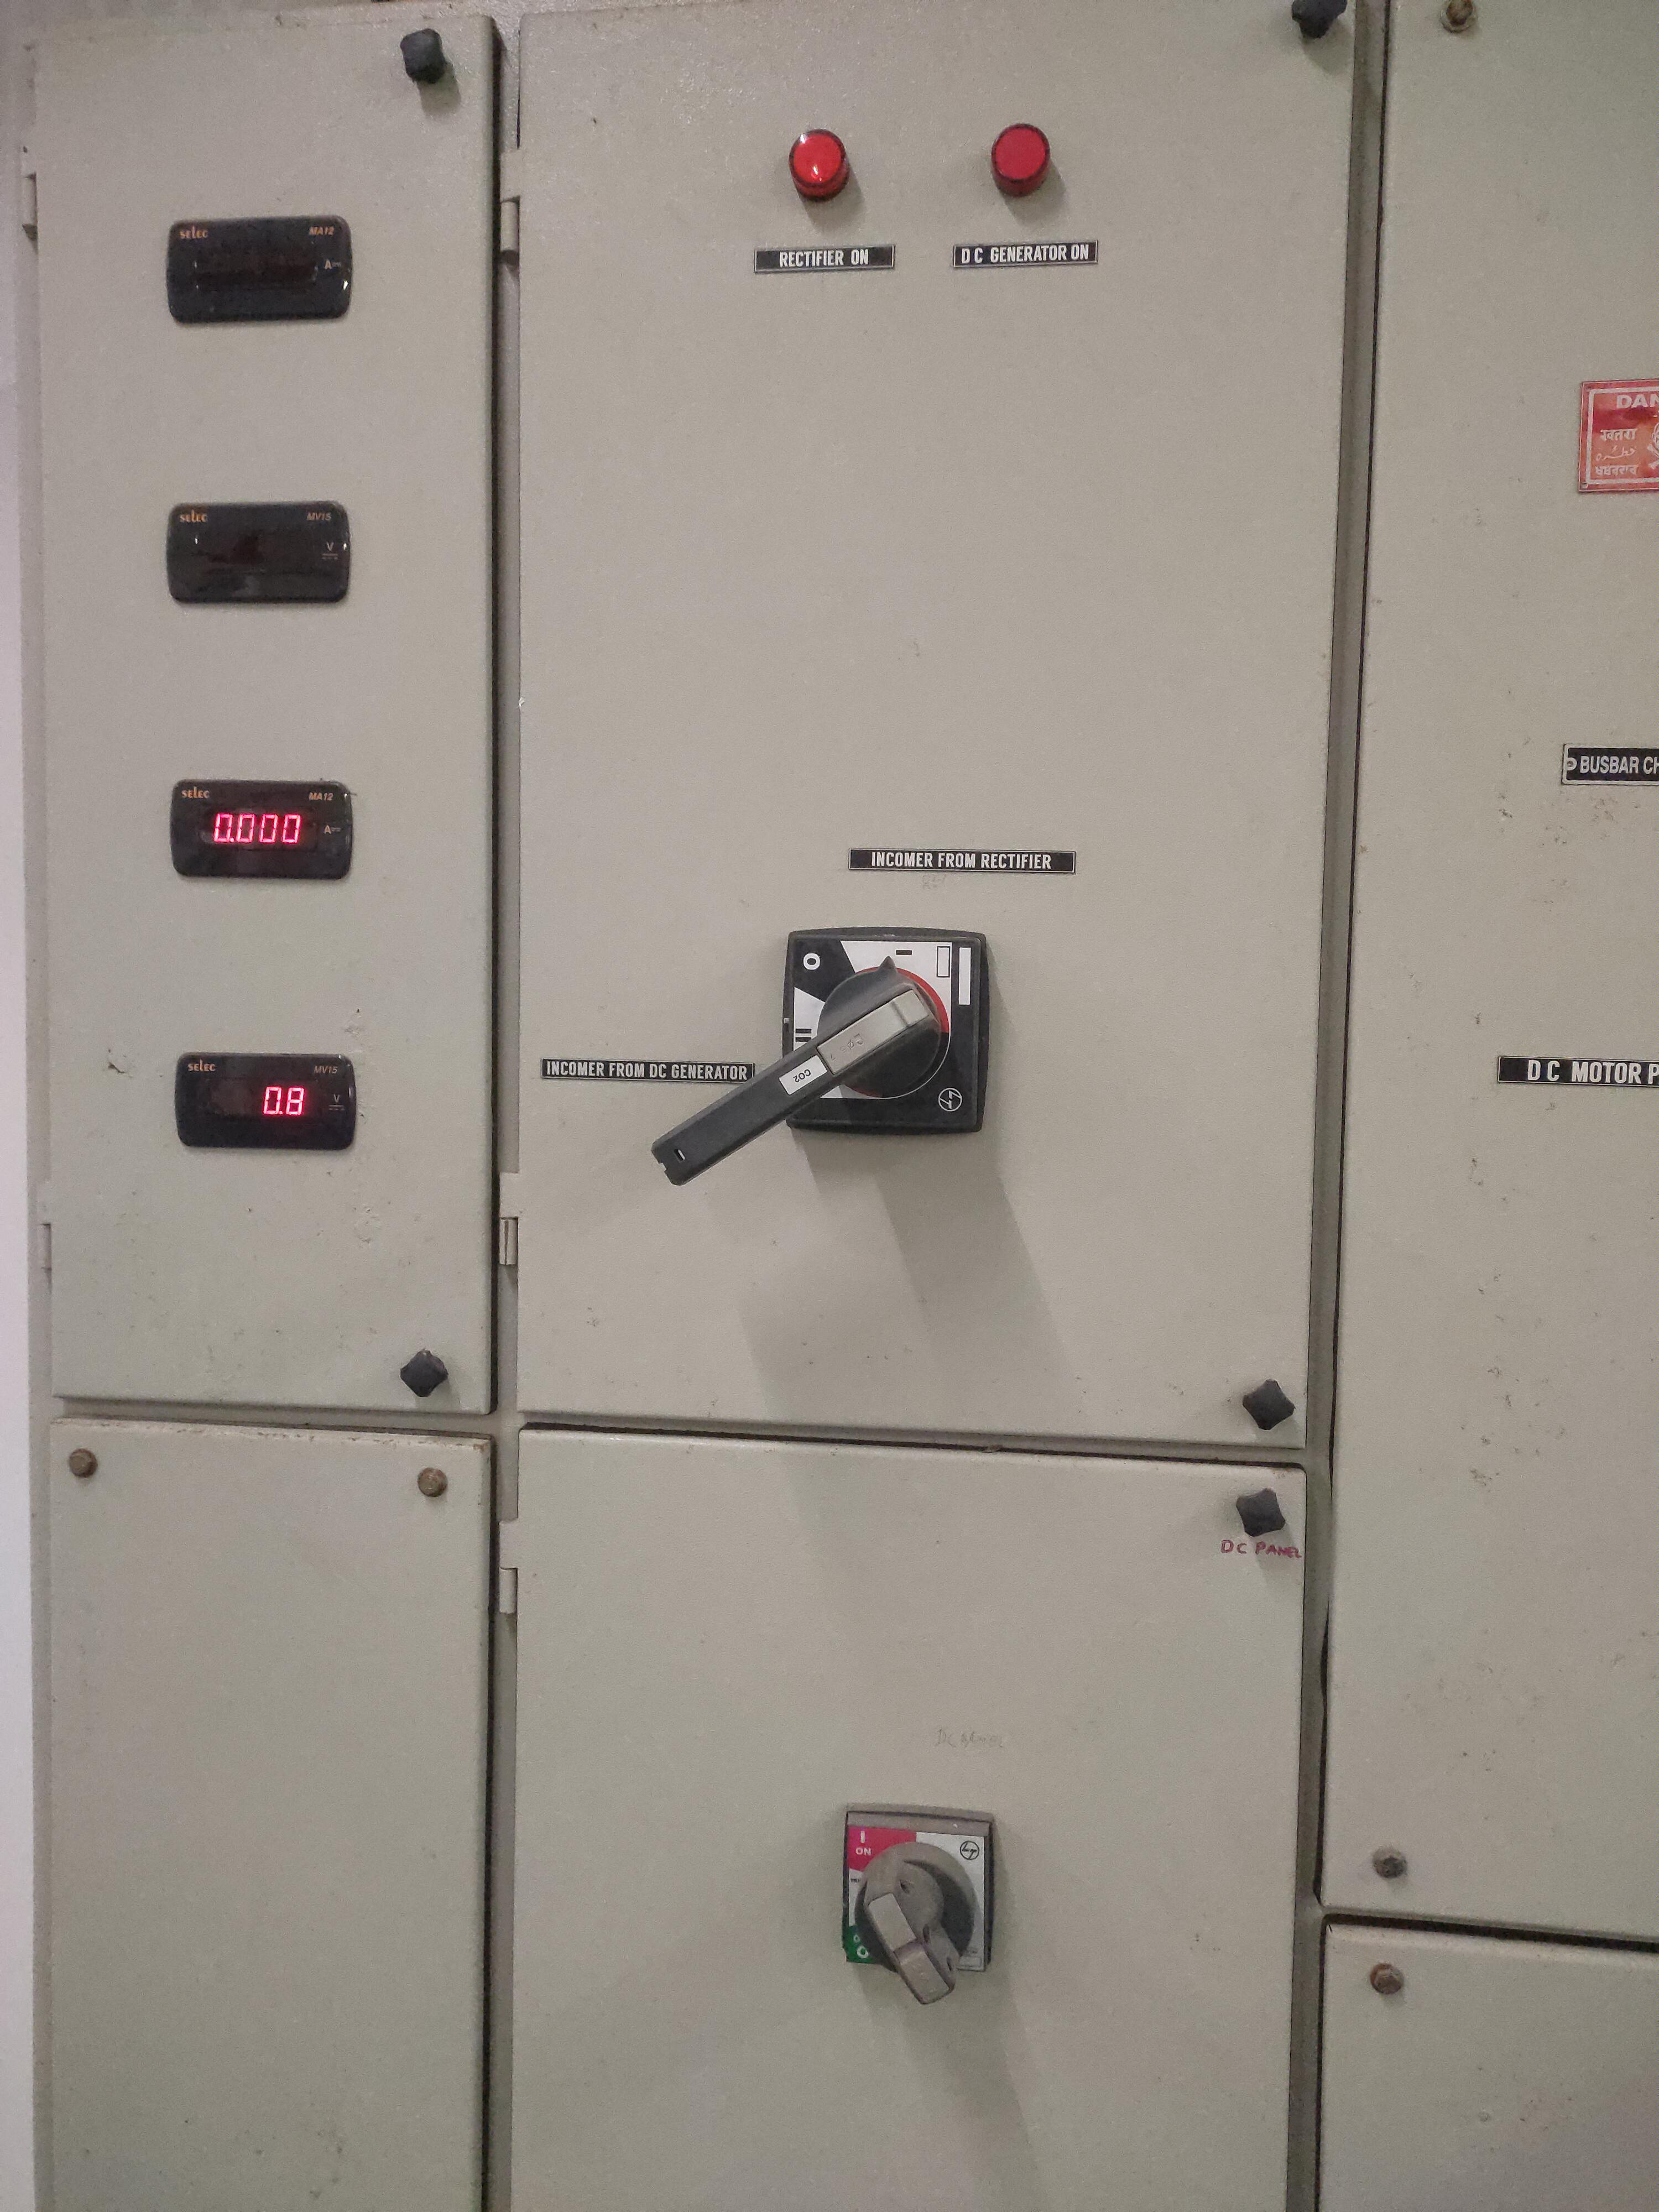Knob 1: (631, 902, 1023, 1198)
Knob 2: (812, 1771, 1032, 2019)
Light Indications: (732, 101, 1112, 305)
